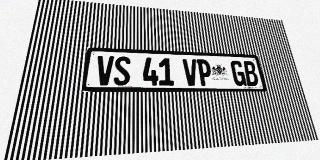1: (158, 58, 174, 86)
4: (143, 57, 159, 86)
B: (242, 61, 259, 86)
G: (230, 60, 247, 86)
P: (196, 59, 213, 86)
S: (113, 56, 130, 85)
V: (96, 56, 114, 85), (182, 59, 199, 86)
